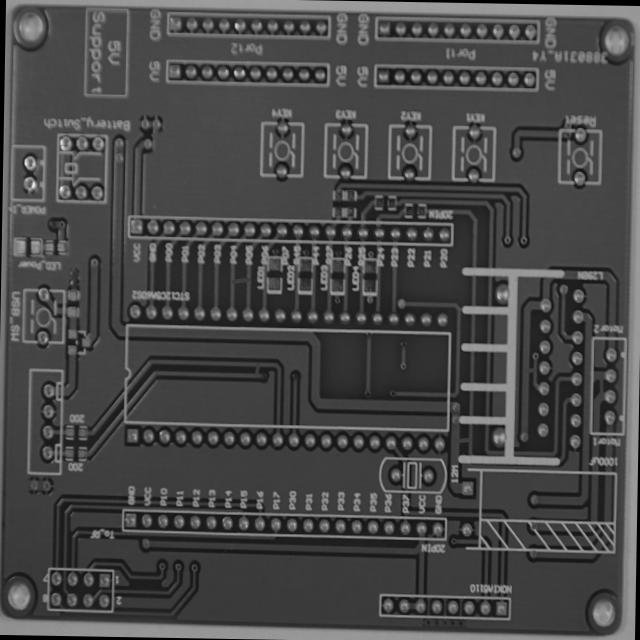short: (592, 371, 612, 402), (225, 271, 252, 291), (451, 431, 474, 452), (520, 361, 540, 380), (248, 360, 265, 380)
